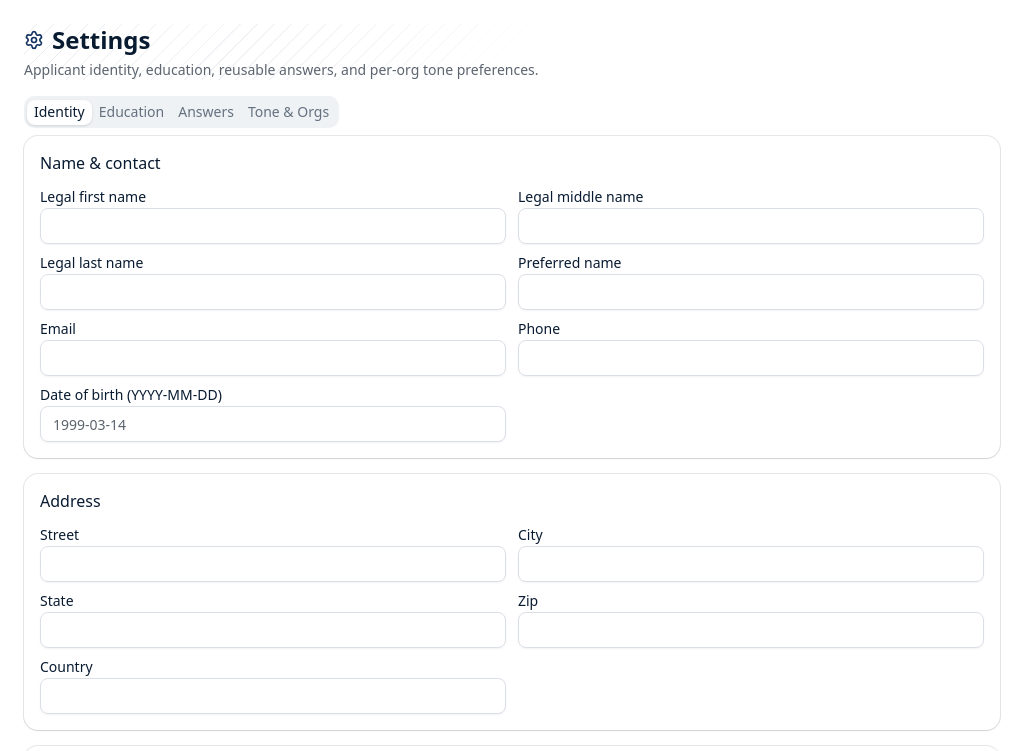
it: Settings - delete button accessible names identify the row › Answer overrides: two overrides for the selected application get distinct delete labels
Click the tab "Answers".
click(206, 112)  # box [171, 100, 241, 124]
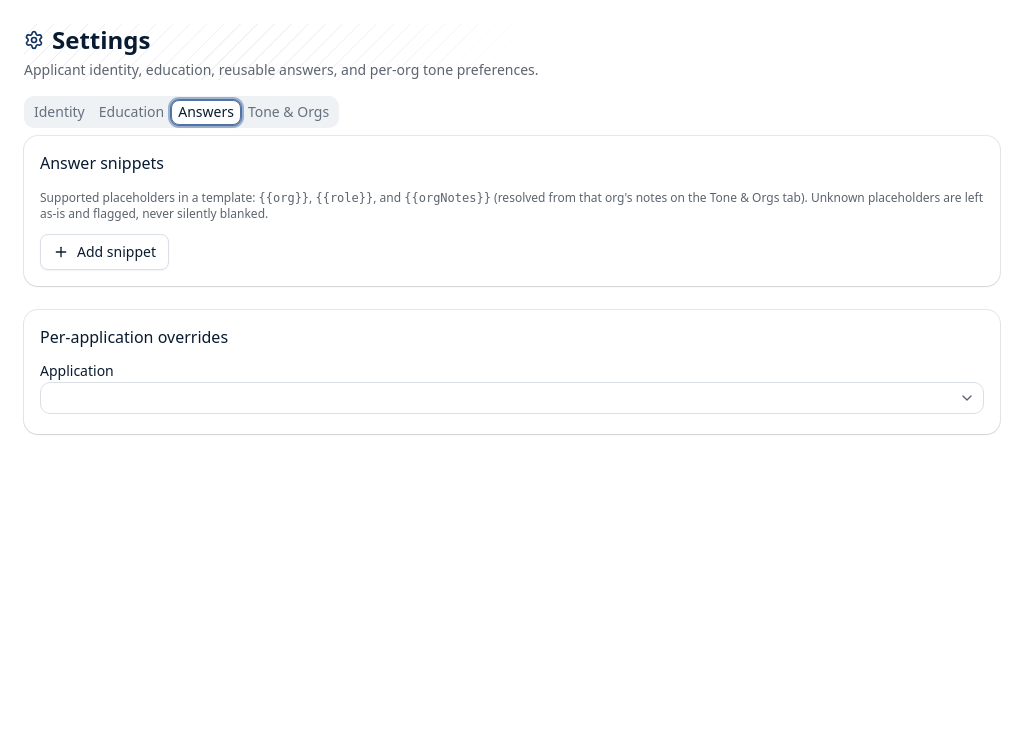
Click the dropdown.
click(967, 398)  # box [40, 382, 984, 414]
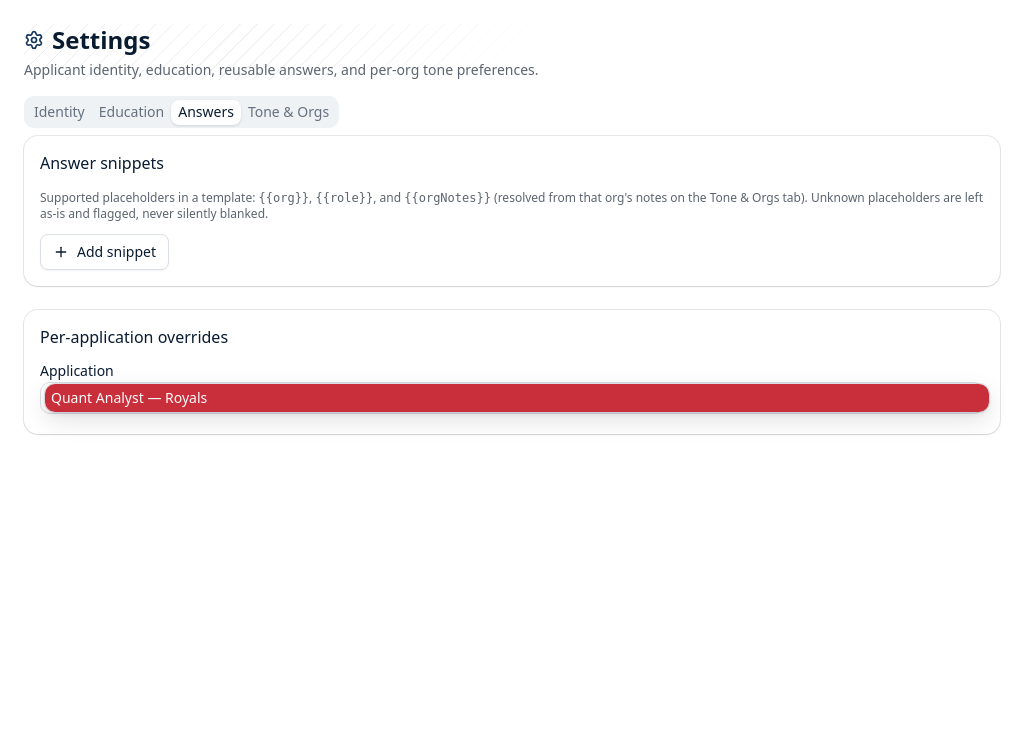
Click the option "Quant Analyst — Royals".
click(97, 398)  # box [45, 384, 989, 412]
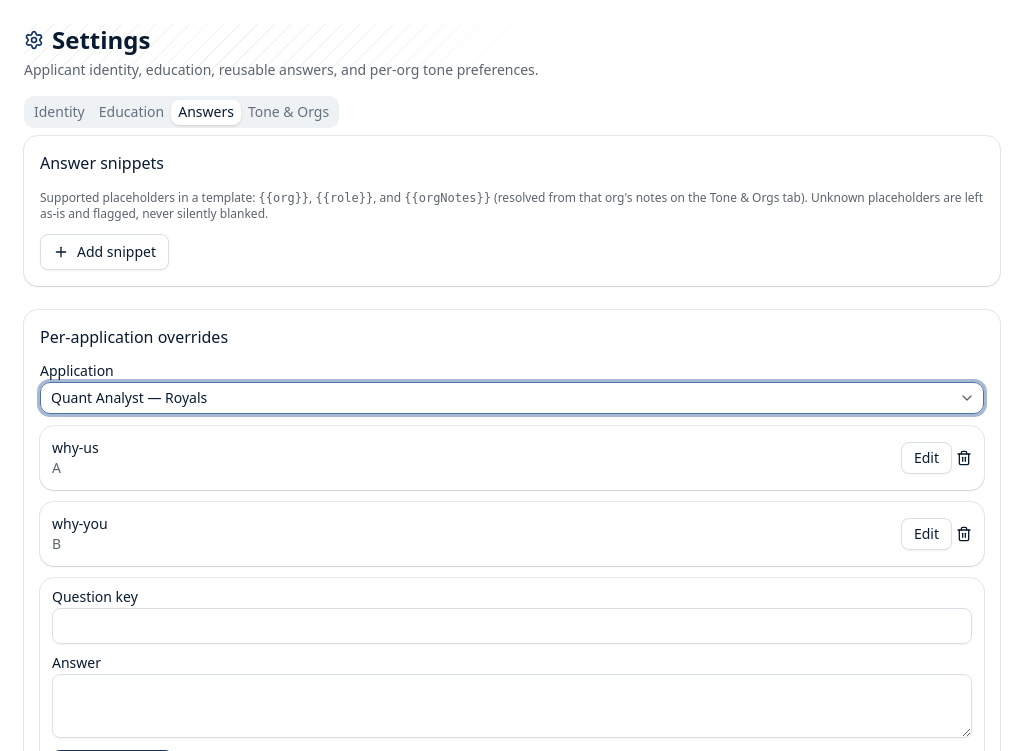
Check: the button named "Delete override: why-us" is shown, box [956, 442, 972, 474]
Check: the button named "Delete override: why-you" is shown, box [956, 518, 972, 550]
